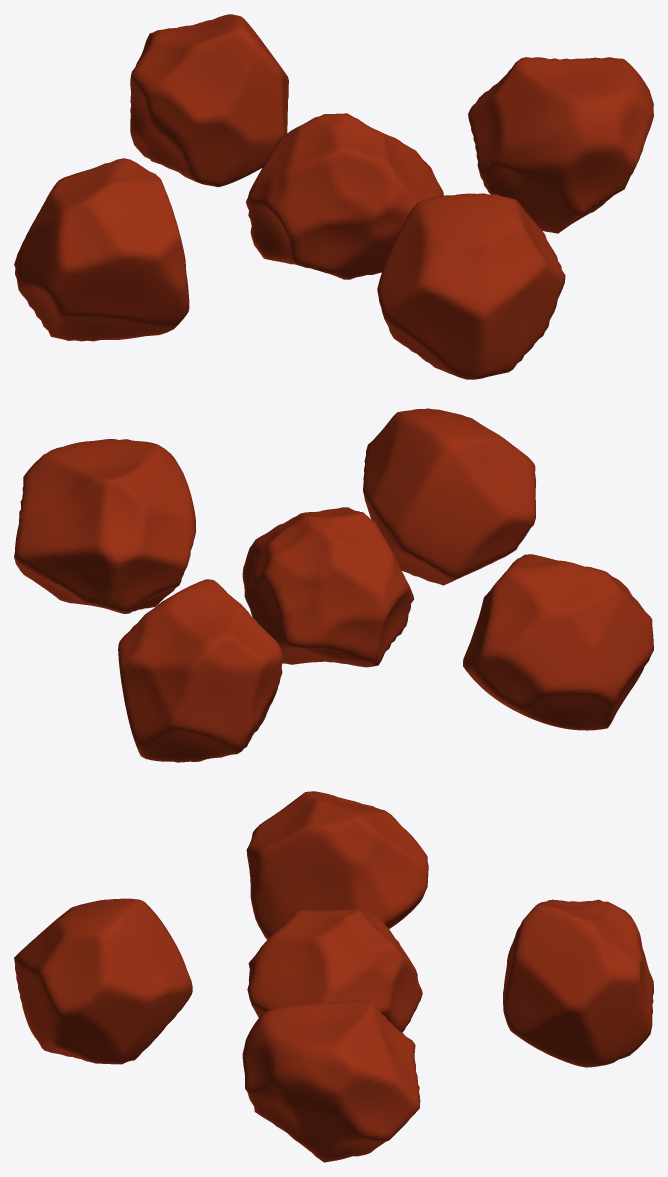
File: rocks.FBX
3 renders of one model, top to bottom at view 1: azimuth 30°, elevation 25°; view 2: azimuth 150°, elevation 25°; view 3: azimuth 270°, elevation 25°, orthographic. The views are drawn at different scales.
Parts seen in each view (by area): view 1: GeoSphere002, GeoSphere003, GeoSphere005, GeoSphere001, GeoSphere004; view 2: GeoSphere005, GeoSphere003, GeoSphere002, GeoSphere004, GeoSphere001; view 3: GeoSphere005, GeoSphere002, GeoSphere004, GeoSphere003, GeoSphere001.
Part boxes in pixels (left/top/right/bottom): GeoSphere002: left=377, top=193, right=565, bottom=379; GeoSphere003: left=14, top=158, right=189, bottom=341; GeoSphere005: left=468, top=57, right=653, bottom=233; GeoSphere001: left=246, top=113, right=443, bottom=279; GeoSphere004: left=130, top=14, right=288, bottom=187; GeoSphere005: left=14, top=439, right=195, bottom=613; GeoSphere003: left=463, top=554, right=653, bottom=730; GeoSphere002: left=363, top=408, right=536, bottom=585; GeoSphere004: left=118, top=579, right=282, bottom=762; GeoSphere001: left=242, top=507, right=413, bottom=667; GeoSphere005: left=242, top=1000, right=420, bottom=1162; GeoSphere002: left=14, top=898, right=192, bottom=1064; GeoSphere004: left=503, top=899, right=653, bottom=1067; GeoSphere003: left=246, top=791, right=428, bottom=939; GeoSphere001: left=247, top=908, right=422, bottom=1032.
Bounding box in the file's own units: 111 × 28.56 × 107.
